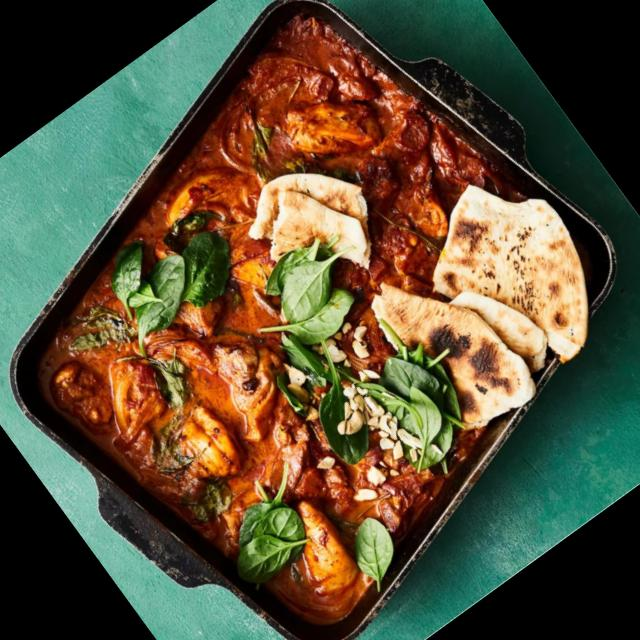chicken: (16, 163, 497, 640)
roti: (375, 192, 619, 430)
